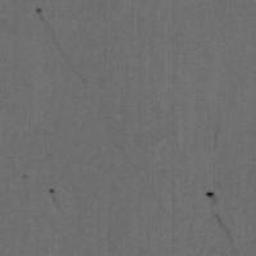Inclusion: (213, 213, 233, 243), (48, 188, 60, 208), (205, 191, 217, 204), (35, 7, 45, 22)
